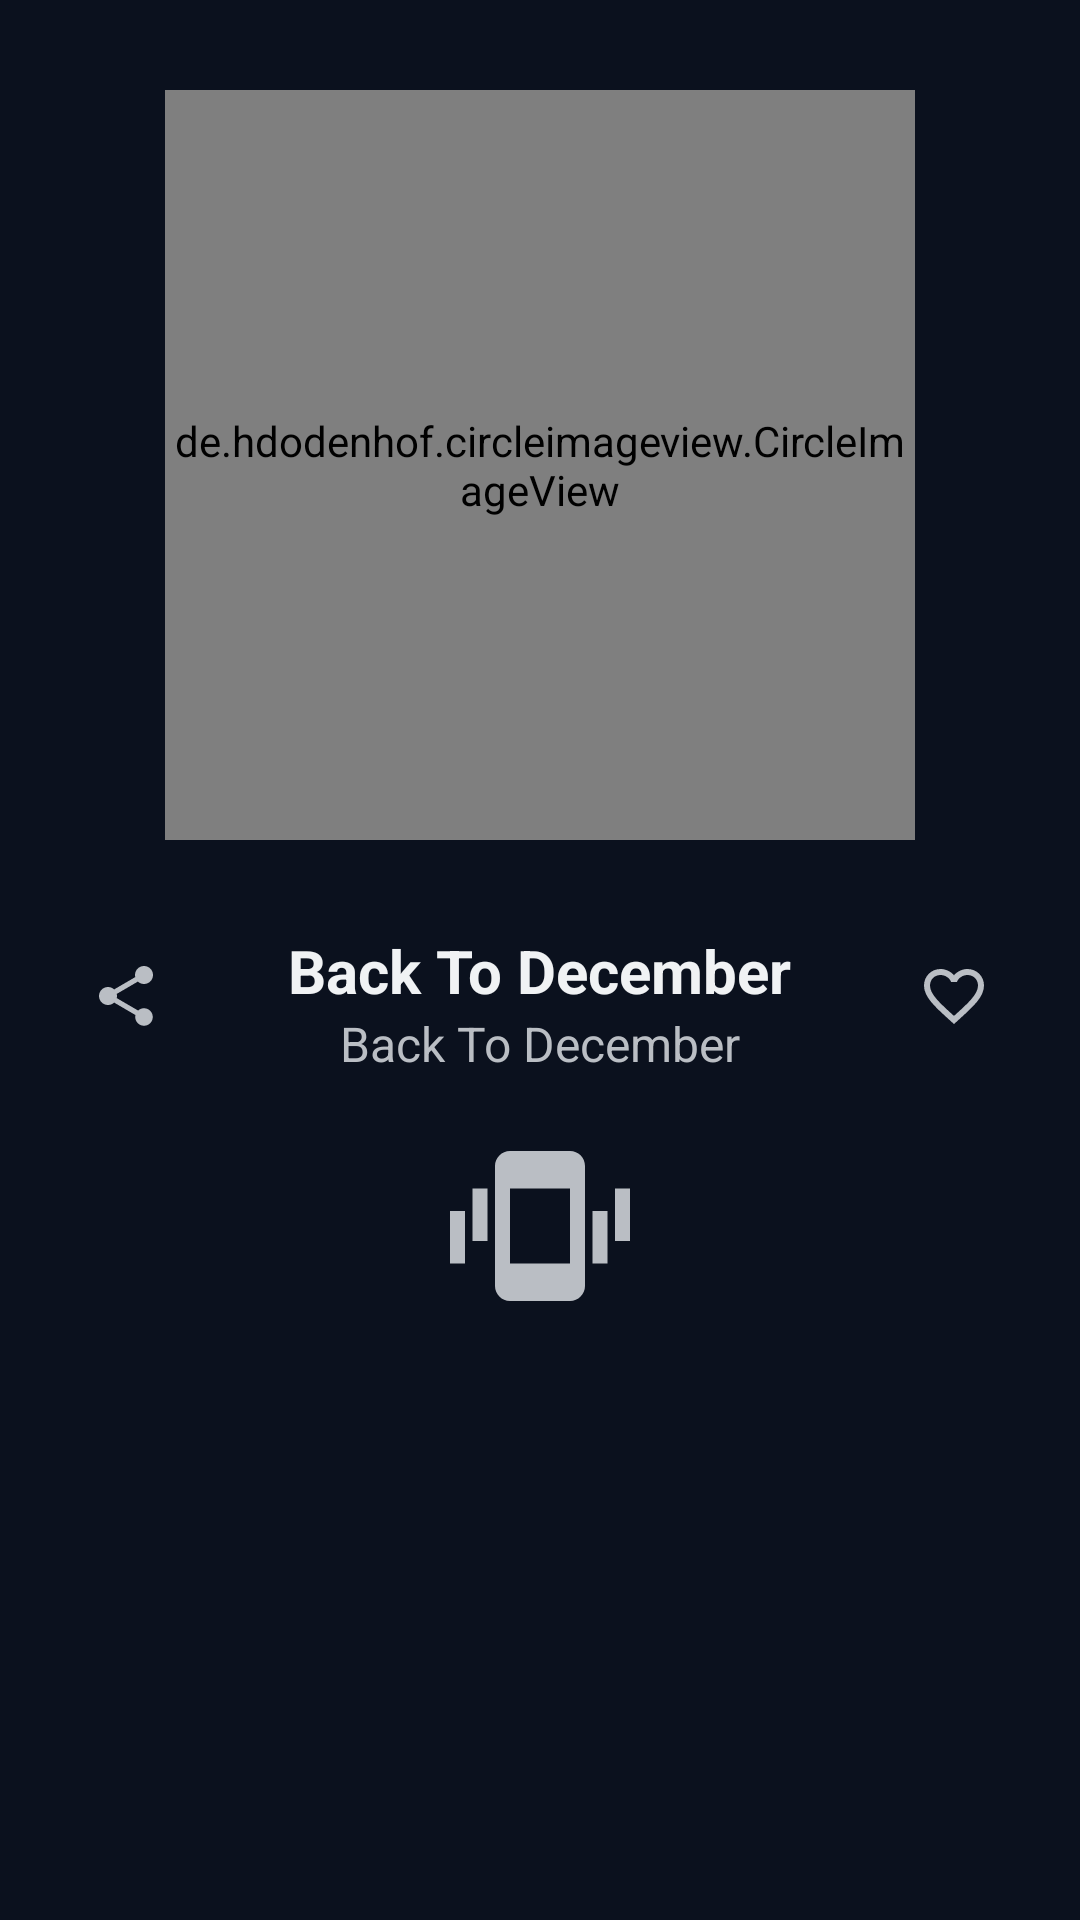

Named icons in this screenshot (1080px×1920px) and their bounding boxes, bbox=[x1, y1, x2, y2]:
edgesensor high: bbox=[450, 1151, 630, 1301]
favorite border: bbox=[924, 969, 984, 1024]
share: bbox=[99, 966, 153, 1026]
